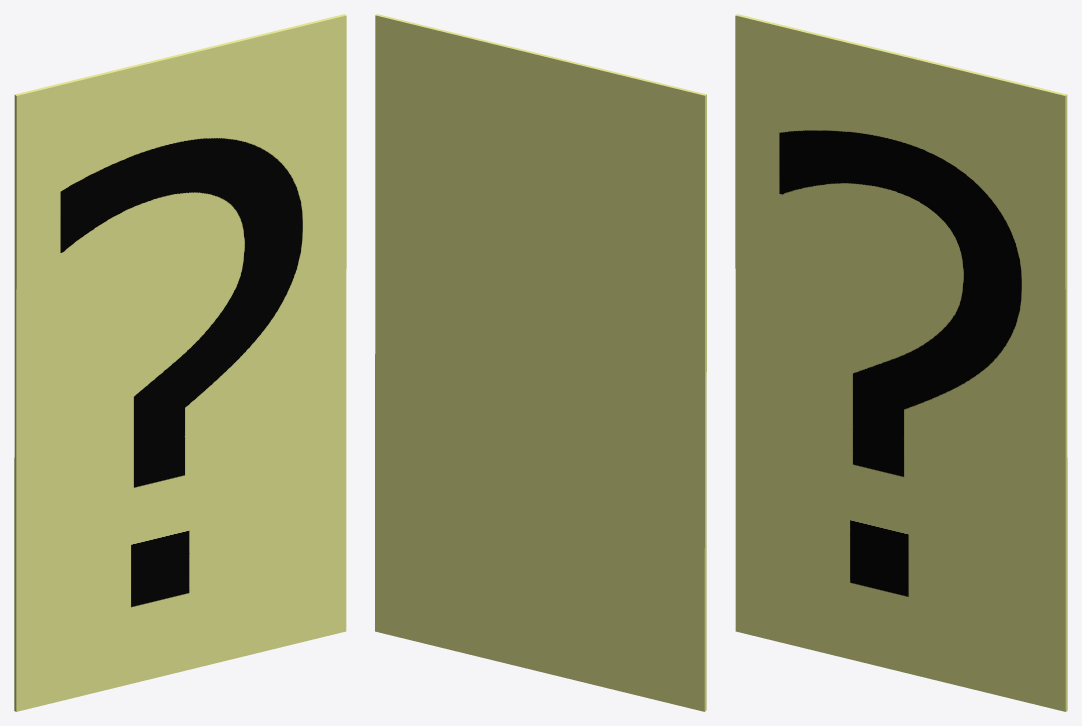
File: PistaPlaceholder1.fbx
3 views of the same model, side by side, from view 1: azimuth 30°, elevation 25°; view 2: azimuth 150°, elevation 25°; view 3: azimuth 330°, elevation 25° (orthographic).
Parts seen in each view (by area): view 1: Cylinder; view 2: Cylinder; view 3: Cylinder.
Part boxes in pixels (x1,y1,x2,y2): Cylinder: (14,14,346,711); Cylinder: (375,14,706,711); Cylinder: (735,14,1067,711).
Size of the model in its own units: 9 by 16.07 by 0.1023.
Materials: 1 (1 with a texture image).
